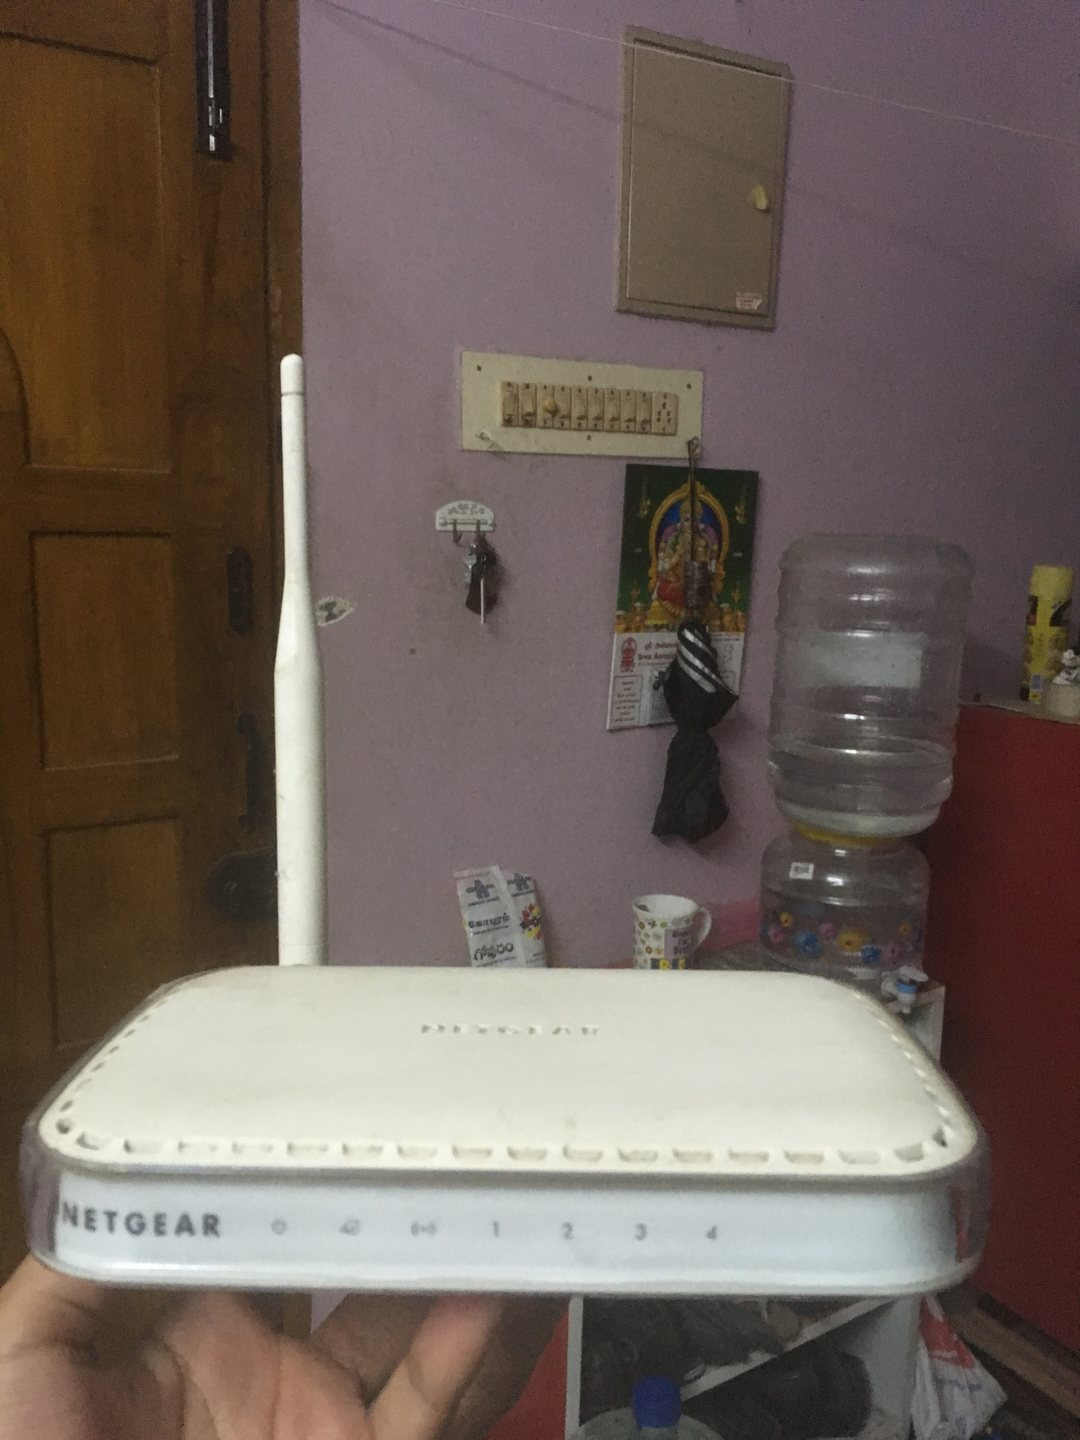NETGEAR: (52, 1196, 228, 1251)
modem: (18, 1138, 999, 1294)
